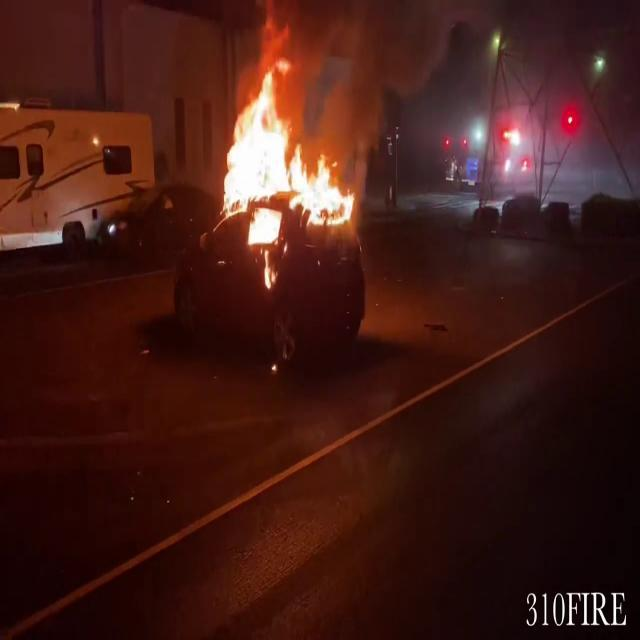Fire: (212, 49, 358, 251)
Smoke: (255, 0, 456, 162)
